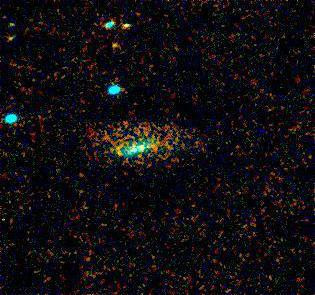star: (100, 32, 130, 62)
